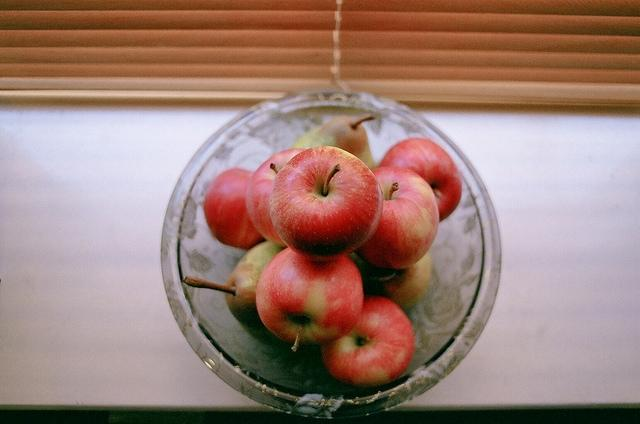apple: (268, 146, 383, 262), (184, 241, 294, 349), (256, 248, 363, 353), (354, 166, 440, 270), (320, 296, 414, 388), (376, 138, 462, 222), (245, 148, 308, 247), (204, 168, 266, 250), (348, 250, 432, 310)
